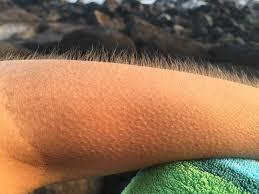Goosebumps: (0, 59, 258, 193)
